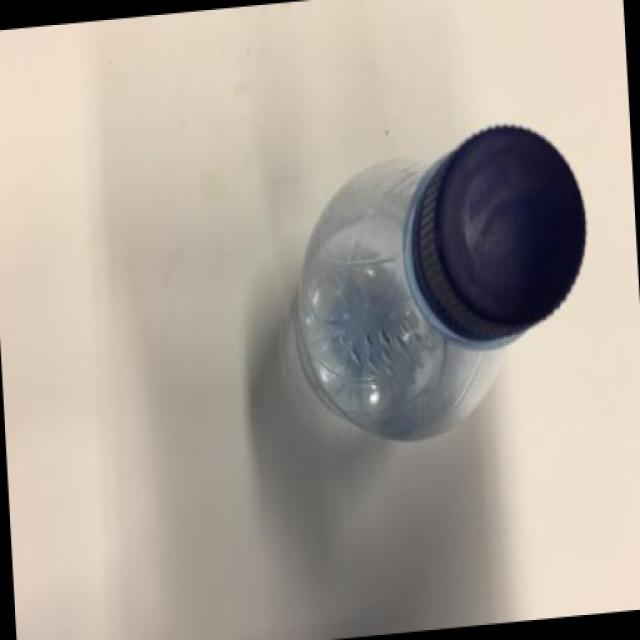plastico: (283, 94, 608, 507)
